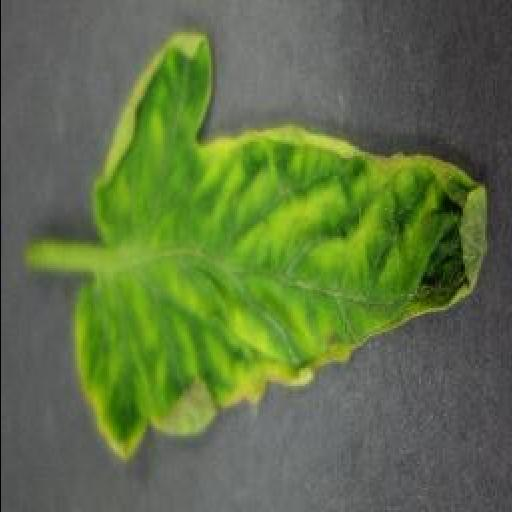disease_tomato: (69, 34, 491, 462)
